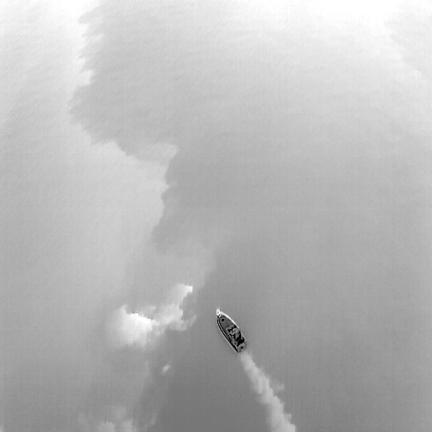flukeprints: (107, 305, 167, 348)
